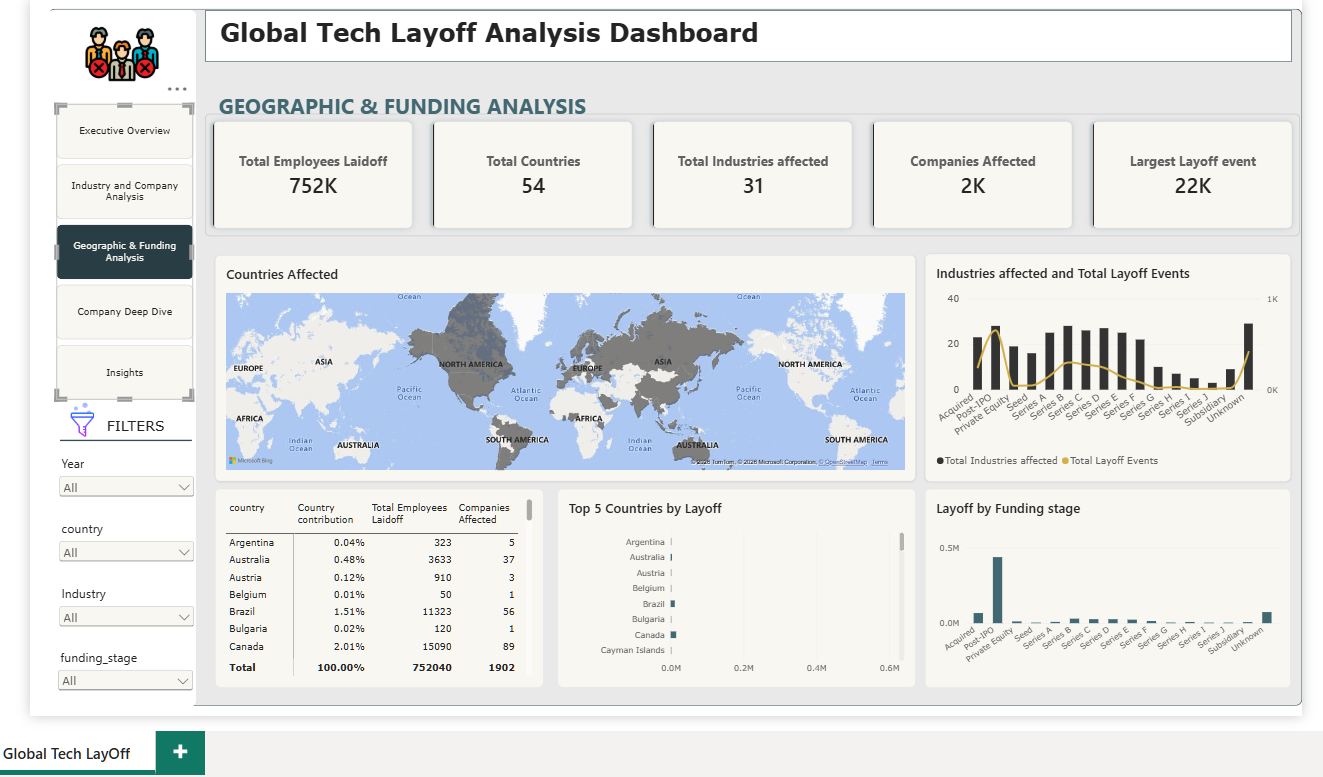

The page's visual inventory and layout, read from the dashboard file:
{"tool":"powerbi","page":{"name":"Global Tech LayOff","canvas":[1920,1080],"ordinal":0},"visuals":[{"type":"shape","box":[29,12.7,1892,1052],"z":0},{"type":"shape","box":[27.1,14.5,224.4,1051.4],"z":1000},{"type":"slicer","fields":{"Values":["Date.Year"]},"box":[38.7,687.3,212.9,80.6],"z":3000},{"type":"slicer","fields":{"Values":["layoffs_events.country"]},"box":[38.7,785.6,212.9,80.6],"z":4000},{"type":"slicer","fields":{"Values":["layoffs_events.industry"]},"box":[38.7,883.9,212.9,77.4],"z":5000},{"type":"slicer","fields":{"Values":["layoffs_events.funding_stage"]},"box":[38,979,212.9,87.1],"z":6000},{"type":"textbox","box":[38,613.5,213.5,52.5],"z":7000},{"type":"image","box":[29,602.6,101.3,63.3],"z":8000},{"type":"shape","box":[45.2,613.5,199.1,103.2],"z":9000},{"type":"shape","box":[264.9,14.6,1640.8,78.6],"z":11000},{"type":"textbox","box":[285.9,27.1,843.3,72.4],"z":12000},{"type":"image","box":[72.4,27.1,133.9,110.4],"z":17000},{"type":"textbox","box":[285,165.1,807.9,870.8],"z":40000},{"type":"textbox","box":[1158.5,98.1,760.4,909.4],"z":41000},{"type":"bookmarkNavigator","box":[40,156,207.5,447.5],"z":41001},{"type":"shape","box":[1084,164.7,74.2,843.3],"z":41002}]}

Visuals, with their boxes on the page's 1920x1080 design canvas (x1, y1, x2, y2). These are canvas units, not pixel positions in the 1323x777 screenshot, which may show the page scaled, cropped or inside an application window:
shape: box=[29, 13, 1921, 1065]
shape: box=[27, 14, 252, 1066]
slicer - Date.Year: box=[39, 687, 252, 768]
slicer - layoffs_events.country: box=[39, 786, 252, 866]
slicer - layoffs_events.industry: box=[39, 884, 252, 961]
slicer - layoffs_events.funding_stage: box=[38, 979, 251, 1066]
textbox: box=[38, 614, 252, 666]
image: box=[29, 603, 130, 666]
shape: box=[45, 614, 244, 717]
shape: box=[265, 15, 1906, 93]
textbox: box=[286, 27, 1129, 100]
image: box=[72, 27, 206, 138]
textbox: box=[285, 165, 1093, 1036]
textbox: box=[1158, 98, 1919, 1008]
bookmarkNavigator: box=[40, 156, 248, 604]
shape: box=[1084, 165, 1158, 1008]
